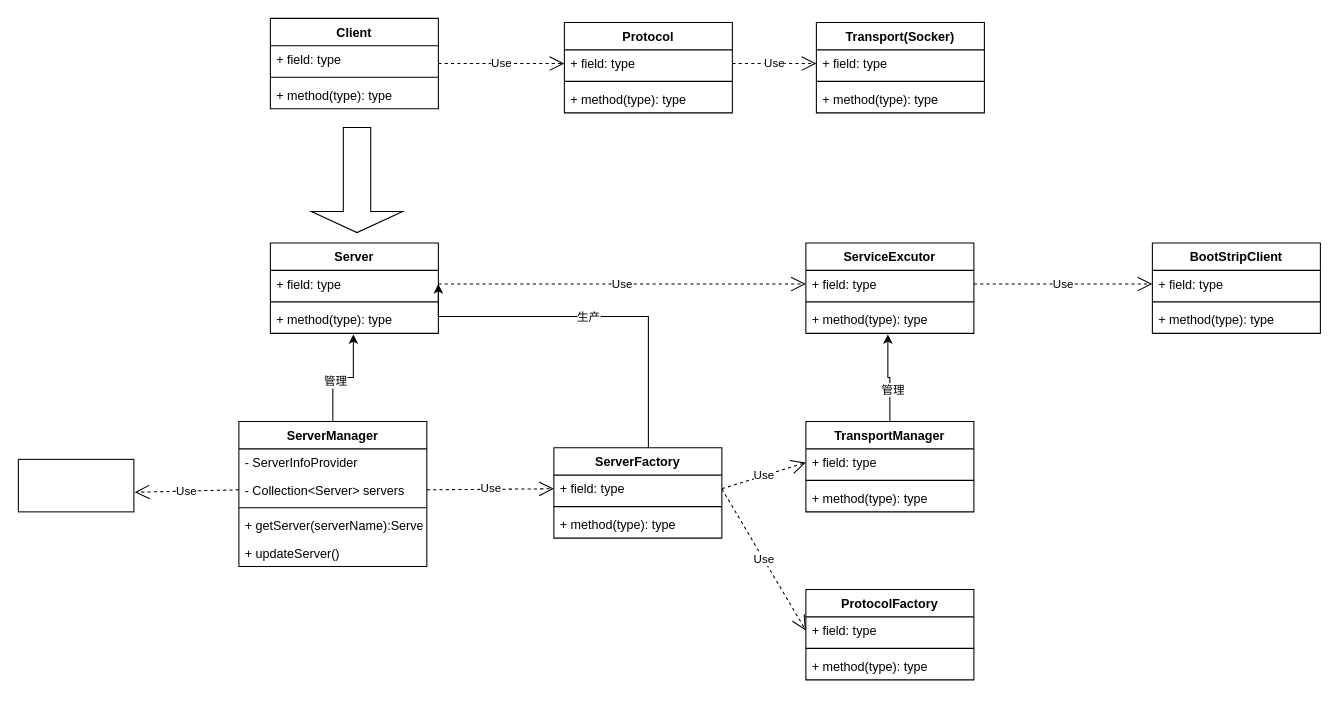
The diagram is 1339 pixels wide and 701 high, and some of its shapes have lost their labels. Here are the shapes that lost their labels. From the top down, the centre of each, then its label:
At (x=356, y=180): "映射".
At (x=75, y=485): "«interface» ServerInfoProvider".
